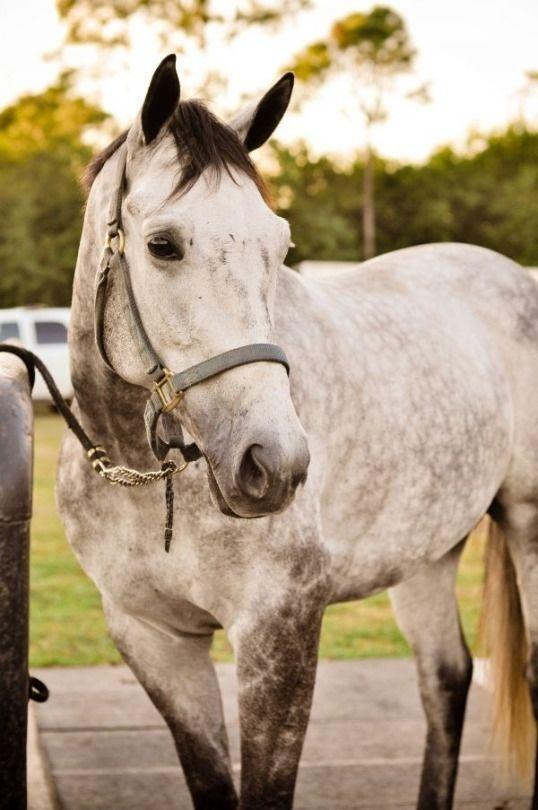horse: (53, 52, 536, 808)
